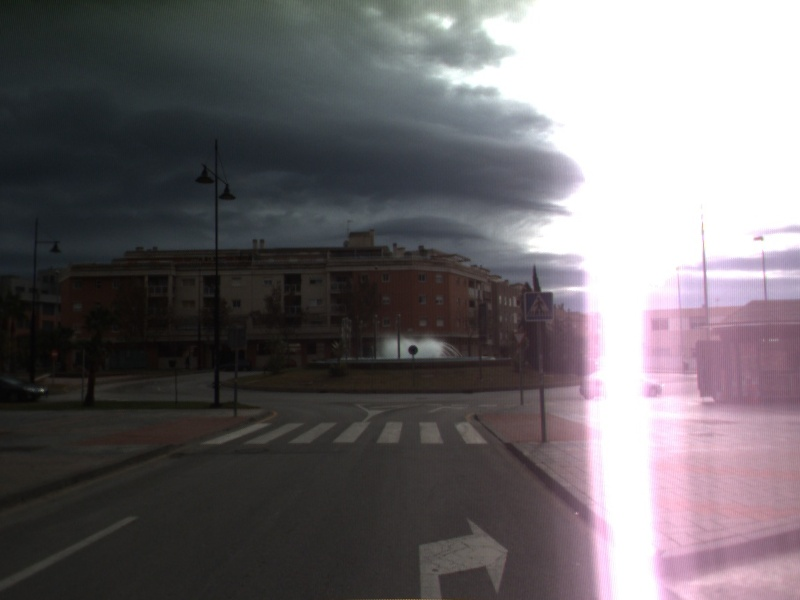RIGHT: (414, 512, 511, 600)
